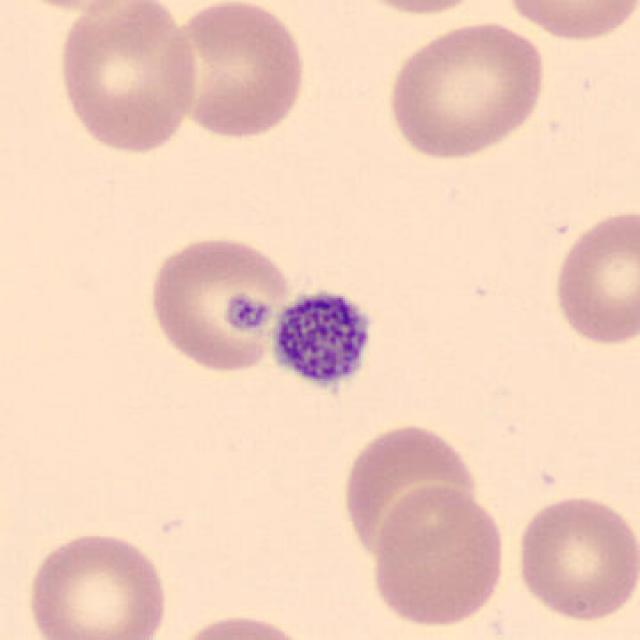Platelets: (265, 284, 379, 395)
RBC: (382, 16, 550, 162), (53, 0, 203, 157), (158, 0, 311, 143), (144, 231, 292, 377), (368, 482, 510, 630), (338, 420, 482, 562), (510, 490, 638, 626), (21, 525, 172, 640), (547, 204, 640, 349), (498, 0, 638, 46), (167, 610, 318, 640), (340, 0, 494, 18), (0, 0, 142, 14)
